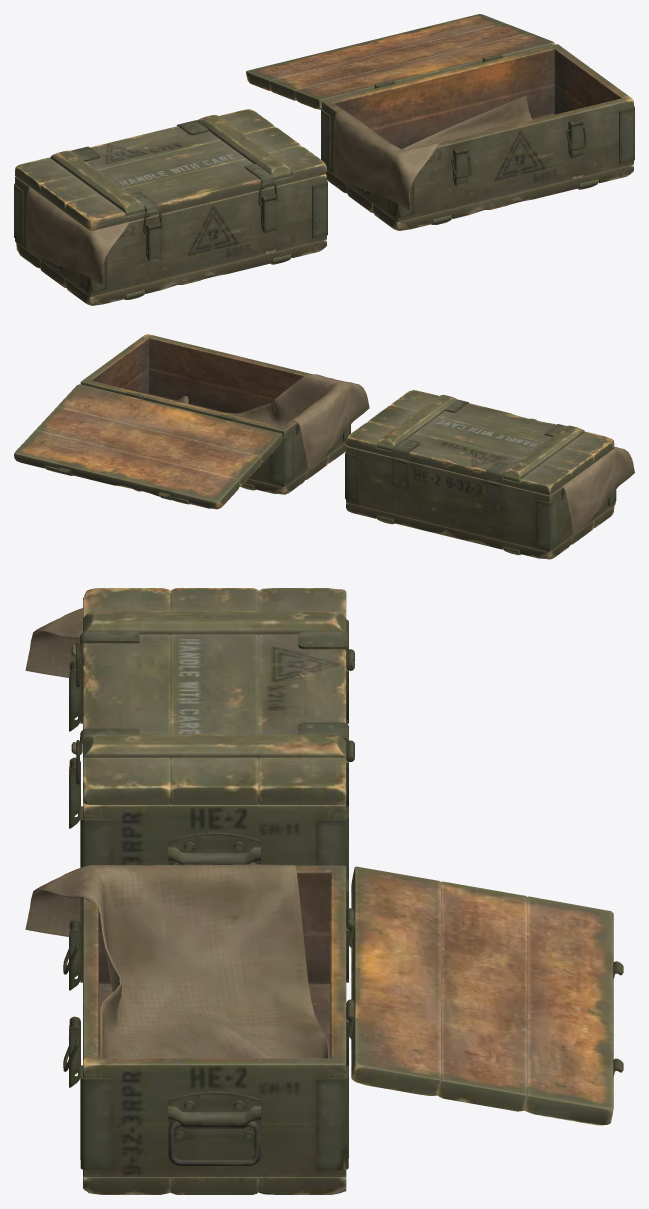
File: old_military_crate.glb
3 renders of one model, top to bottom at view 1: azimuth 30°, elevation 25°; view 2: azimuth 150°, elevation 25°; view 3: azimuth 270°, elevation 25°, orthographic. The views are drawn at different scales.
Parts seen in each view (by area): view 1: old_military_crate_b, old_military_crate_lid_a, old_military_crate_a, old_military_crate_lid_b, old_military_crate_cloth_b, old_military_crate_cloth_a, old_military_crate_latch_a, old_military_crate_latch_b; view 2: old_military_crate_lid_b, old_military_crate_lid_a, old_military_crate_a, old_military_crate_b, old_military_crate_cloth_b, old_military_crate_cloth_a; view 3: old_military_crate_lid_a, old_military_crate_lid_b, old_military_crate_b, old_military_crate_cloth_b, old_military_crate_a, old_military_crate_cloth_a, old_military_crate_latch_b, old_military_crate_latch_a.
Part boxes in pixels (bbox=[...]): old_military_crate_b: bbox=[321, 44, 634, 230]; old_military_crate_lid_a: bbox=[15, 109, 326, 230]; old_military_crate_a: bbox=[14, 174, 327, 305]; old_military_crate_lid_b: bbox=[246, 14, 555, 109]; old_military_crate_cloth_b: bbox=[333, 95, 532, 209]; old_military_crate_cloth_a: bbox=[26, 187, 129, 284]; old_military_crate_latch_a: bbox=[146, 194, 276, 261]; old_military_crate_latch_b: bbox=[453, 119, 583, 186]; old_military_crate_lid_b: bbox=[14, 384, 282, 509]; old_military_crate_lid_a: bbox=[346, 390, 614, 495]; old_military_crate_a: bbox=[345, 446, 616, 559]; old_military_crate_b: bbox=[80, 334, 350, 494]; old_military_crate_cloth_b: bbox=[174, 374, 369, 470]; old_military_crate_cloth_a: bbox=[562, 447, 634, 535]; old_military_crate_lid_a: bbox=[71, 588, 354, 804]; old_military_crate_lid_b: bbox=[346, 866, 623, 1125]; old_military_crate_b: bbox=[80, 865, 354, 1194]; old_military_crate_cloth_b: bbox=[25, 864, 329, 1058]; old_military_crate_a: bbox=[80, 619, 354, 879]; old_military_crate_cloth_a: bbox=[25, 608, 82, 677]; old_military_crate_latch_b: bbox=[69, 919, 80, 1087]; old_military_crate_latch_a: bbox=[69, 660, 80, 828].
Bounding box in the file's own units: 1.82 × 0.301 × 0.9757.
1 material, 1 textured.
